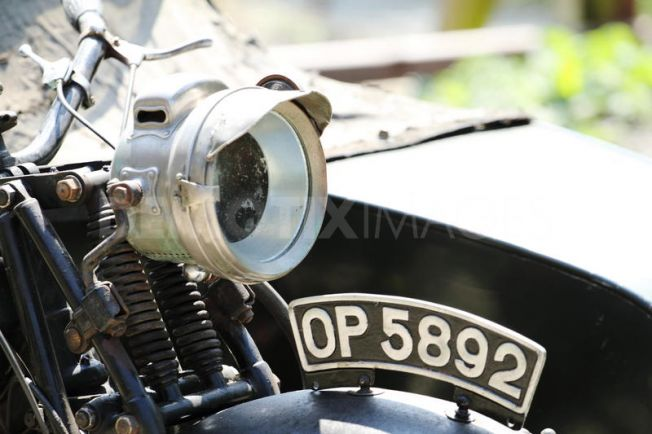number_plate: (283, 286, 548, 415)
